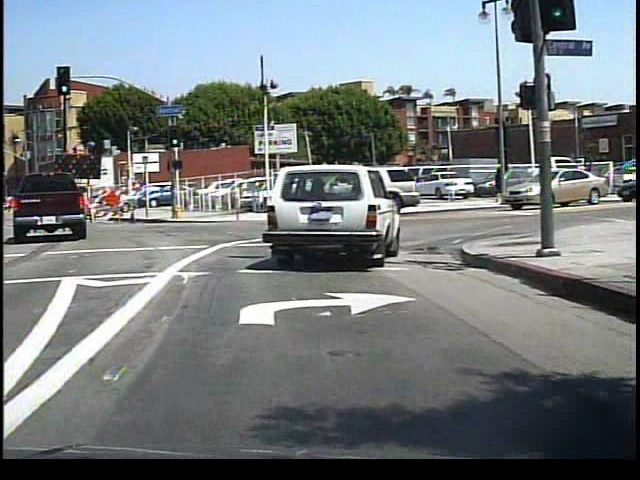person: (491, 160, 510, 204)
